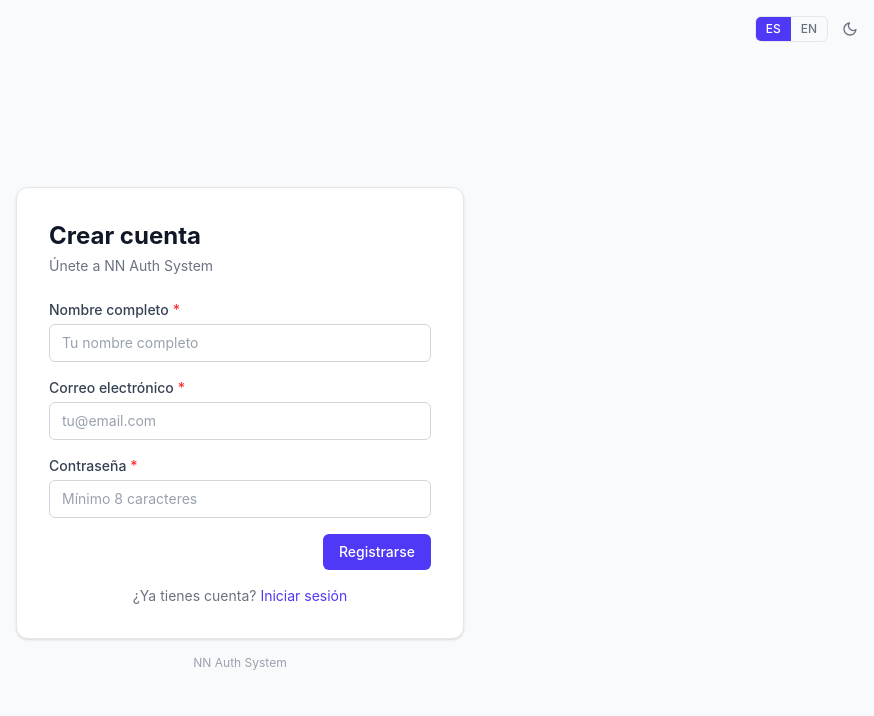
Test: RegisterPage › shows error alert when registration fails
The width and height of the screenshot is (874, 716).
In the field labelled "Nombre completo*": point(240, 343) top-left (49, 324), bottom-right (431, 362), type "Test User"
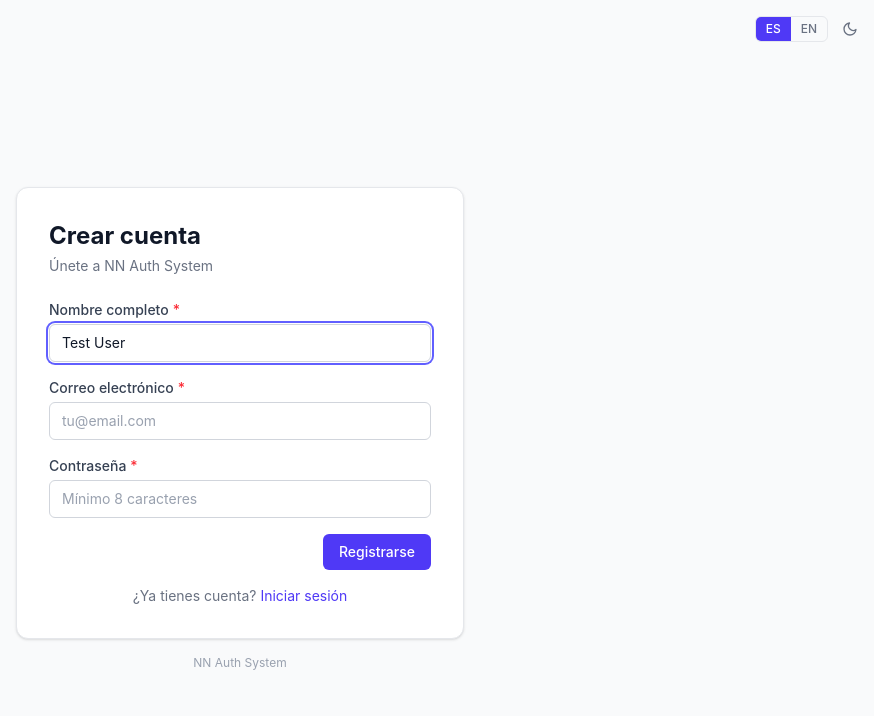
In the field labelled "Correo electrónico*": point(240, 421) top-left (49, 402), bottom-right (431, 440), type "existing@test.com"
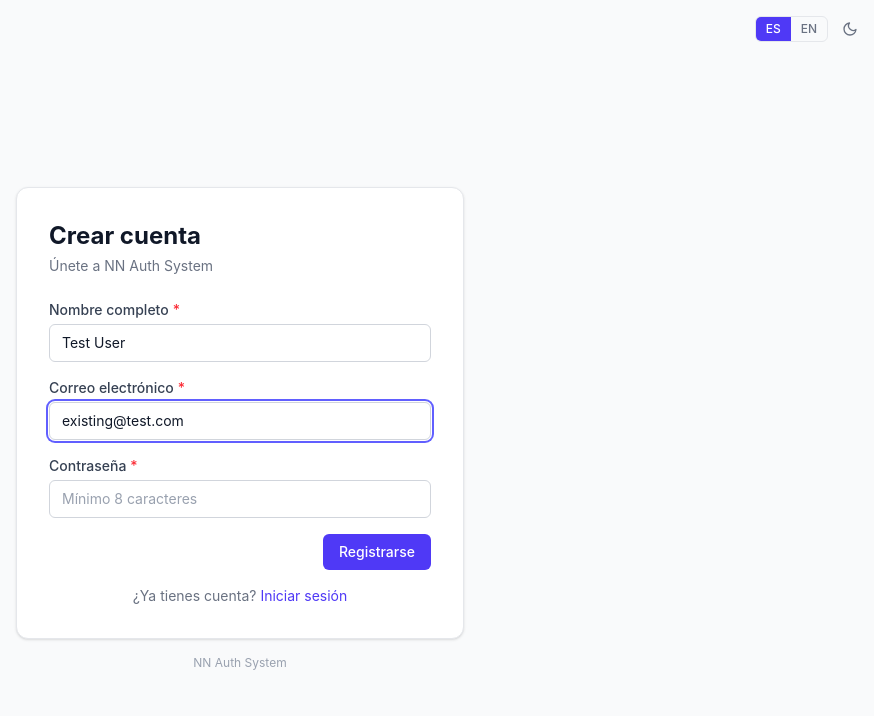
In the password field labelled "Contraseña*": point(240, 499) top-left (49, 480), bottom-right (431, 518), type "password123"
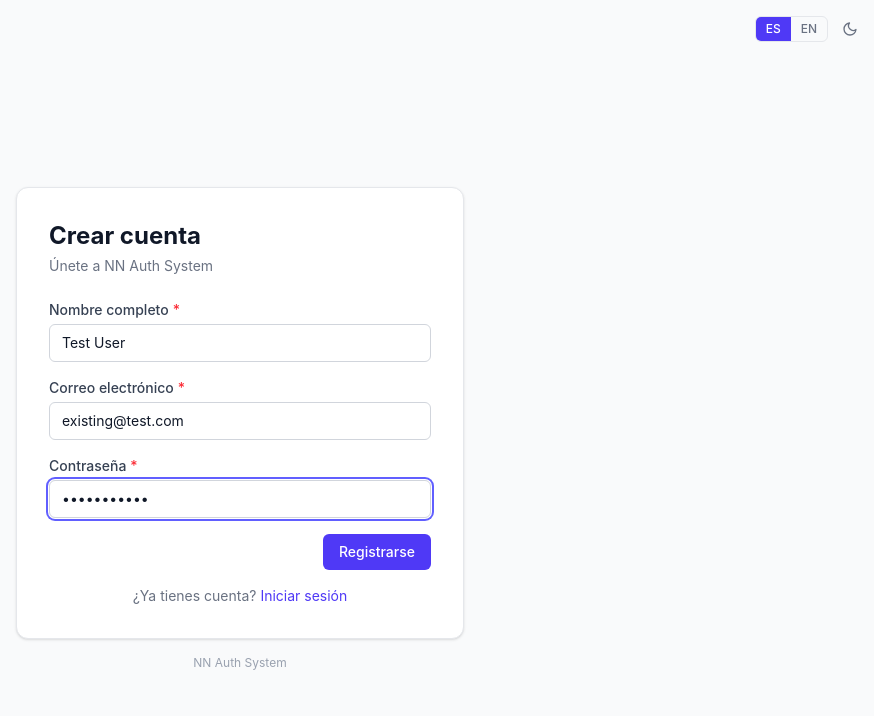
Click the button "Registrarse": point(377, 552) top-left (323, 534), bottom-right (431, 570)
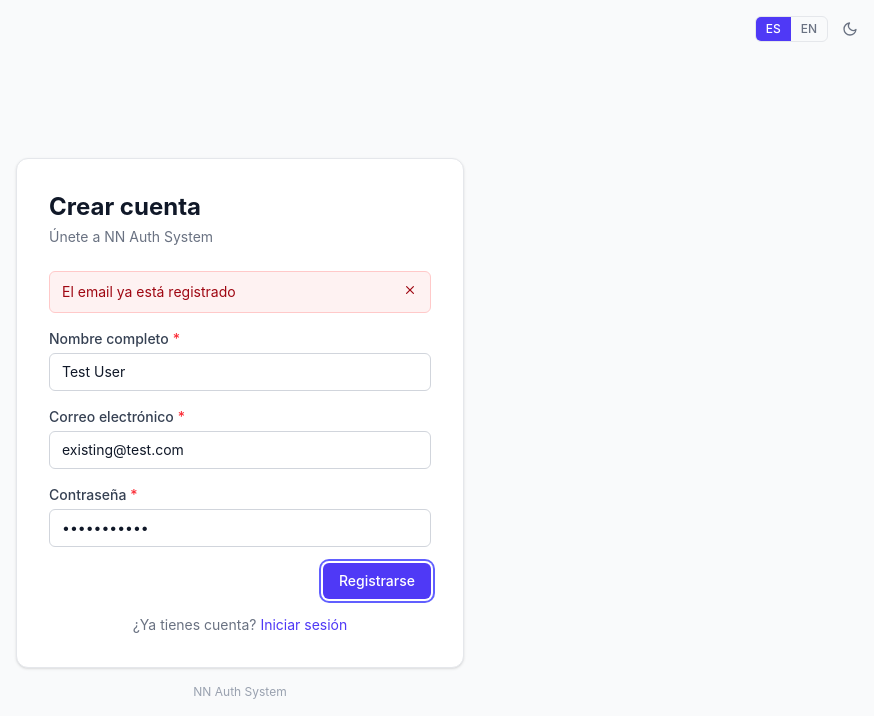
Now the message reads "El email ya está registrado", box top-left (62, 283), bottom-right (236, 300)
